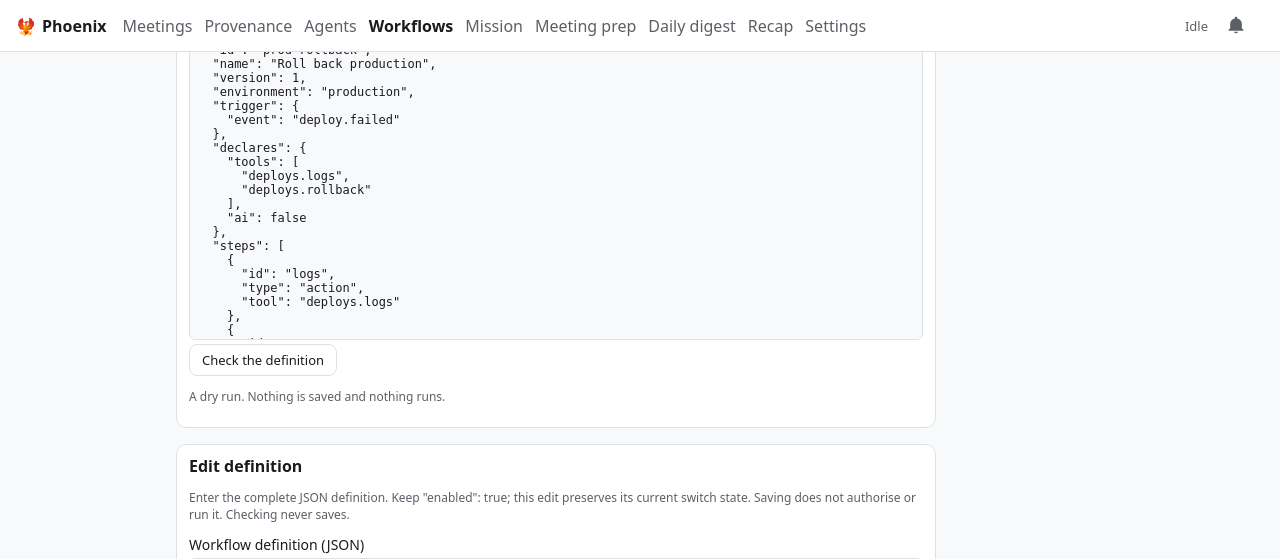
Workflow detail › validate › shows problems with their paths and does not store anything
(page scrolled)
Click the button "Check the definition": (263, 360) [189,344,337,376]
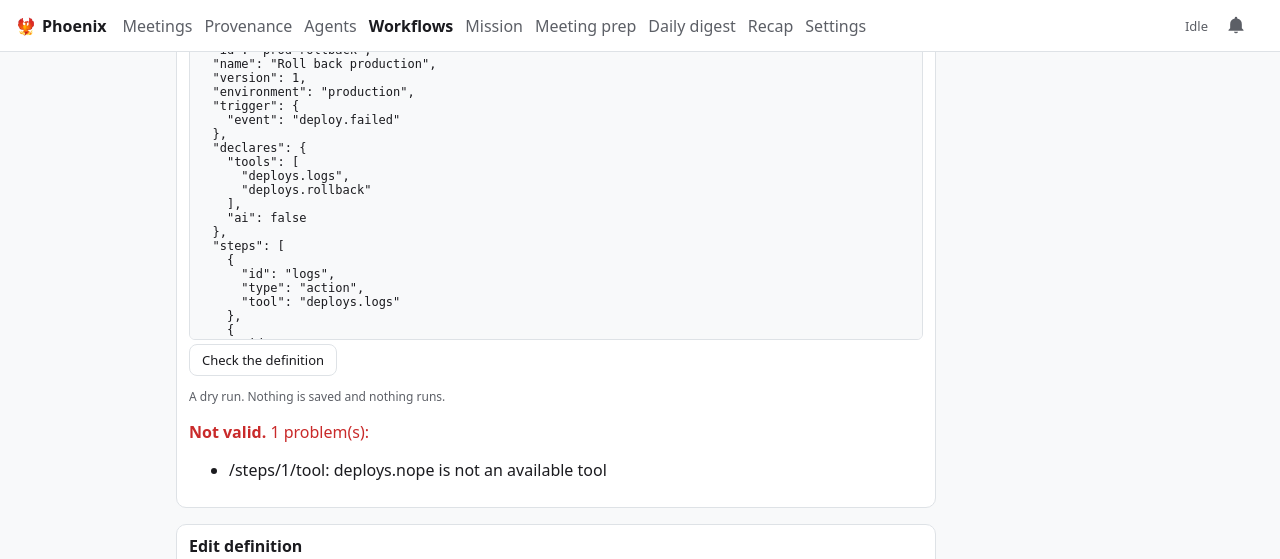
Now the list named "Problems" shows "/steps/1/tool", box [229,459,607,481]
